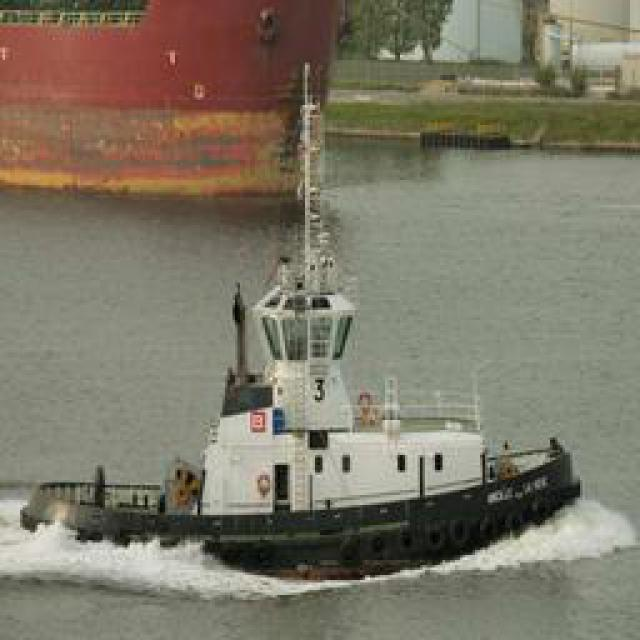Ship: (62, 159, 595, 574)
